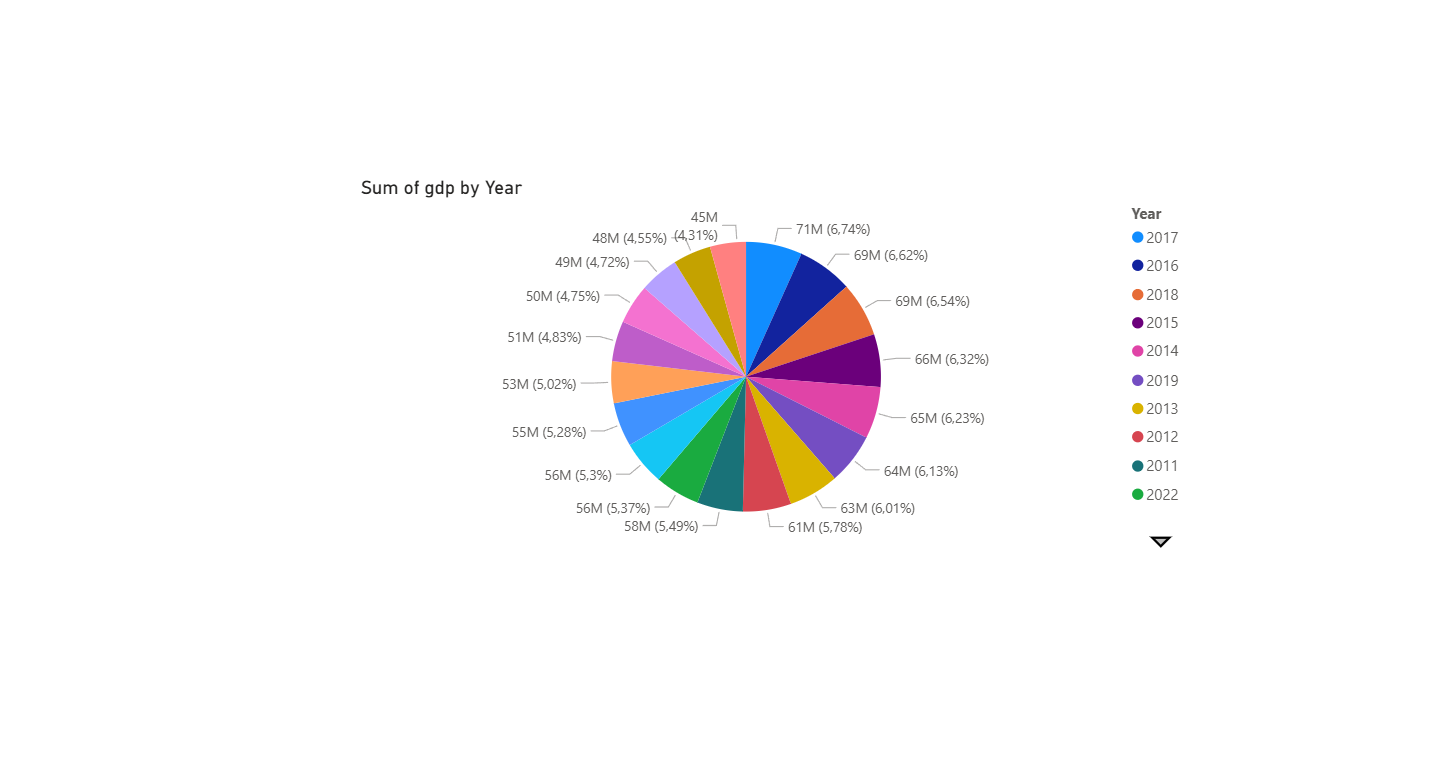

What the dashboard file says about the page in this screenshot:
{"tool":"powerbi","page":{"name":"Сторінка 3","canvas":[1280,720],"ordinal":1},"visuals":[{"type":"pieChart","fields":{"Category":["clean_gdp.Year"],"Y":["Sum(clean_gdp.gdp)"]},"box":[316.2,162.8,744.5,336.9],"z":0}]}

Visuals, with their boxes on the page's 1280x720 design canvas (x1, y1, x2, y2). These are canvas units, not pixel positions in the 1439x781 screenshot, which may show the page scaled, cropped or inside an application window:
pieChart - clean_gdp.Year x Sum(clean_gdp.gdp): rect(316, 163, 1061, 500)
